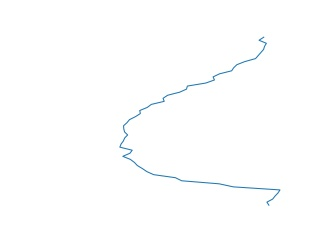underwaterDistributaryChannel: (111, 39, 289, 207)
